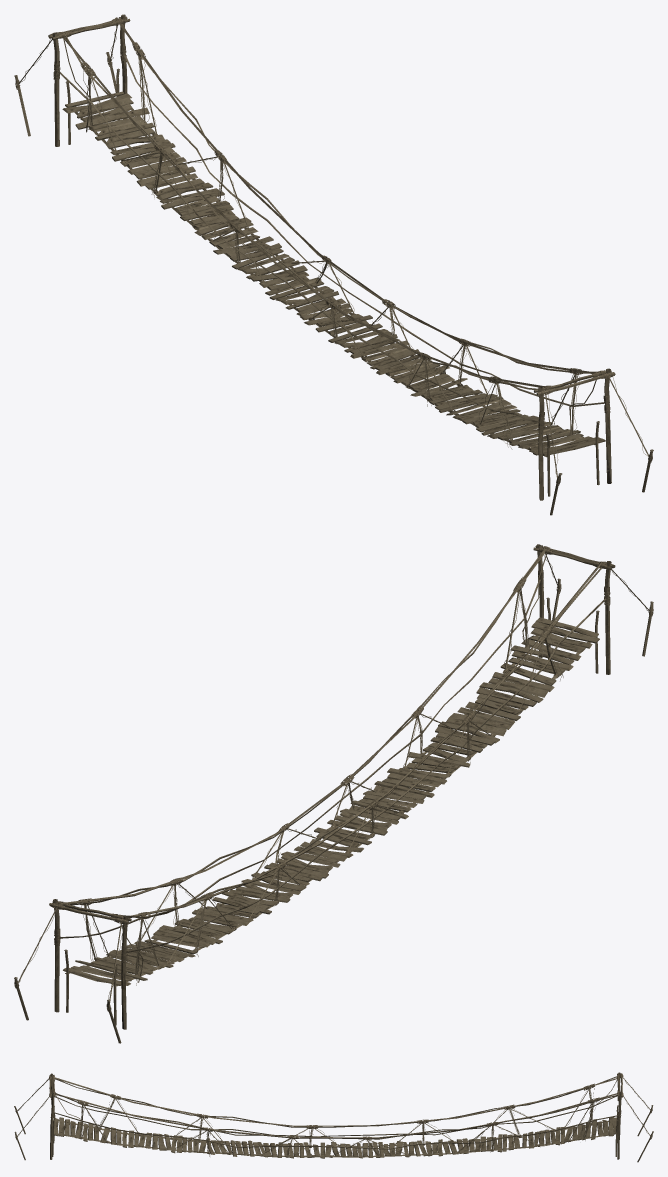
Rendered from Bridge.FBX.
The picture shows the model from 3 angles, top to bottom: view 1: azimuth 30°, elevation 25°; view 2: azimuth 150°, elevation 25°; view 3: azimuth 270°, elevation 25°; orthographic projection. The views are drawn at different scales.
Visible parts, largest first — view 1: Bridge; view 2: Bridge; view 3: Bridge.
Boxes of the visible parts, x1=… form: Bridge: x1=14, y1=14, x2=653, y2=515; Bridge: x1=14, y1=544, x2=653, y2=1043; Bridge: x1=14, y1=1072, x2=653, y2=1162.
Bounding box in the file's own units: 1487 × 1823 × 14481.
